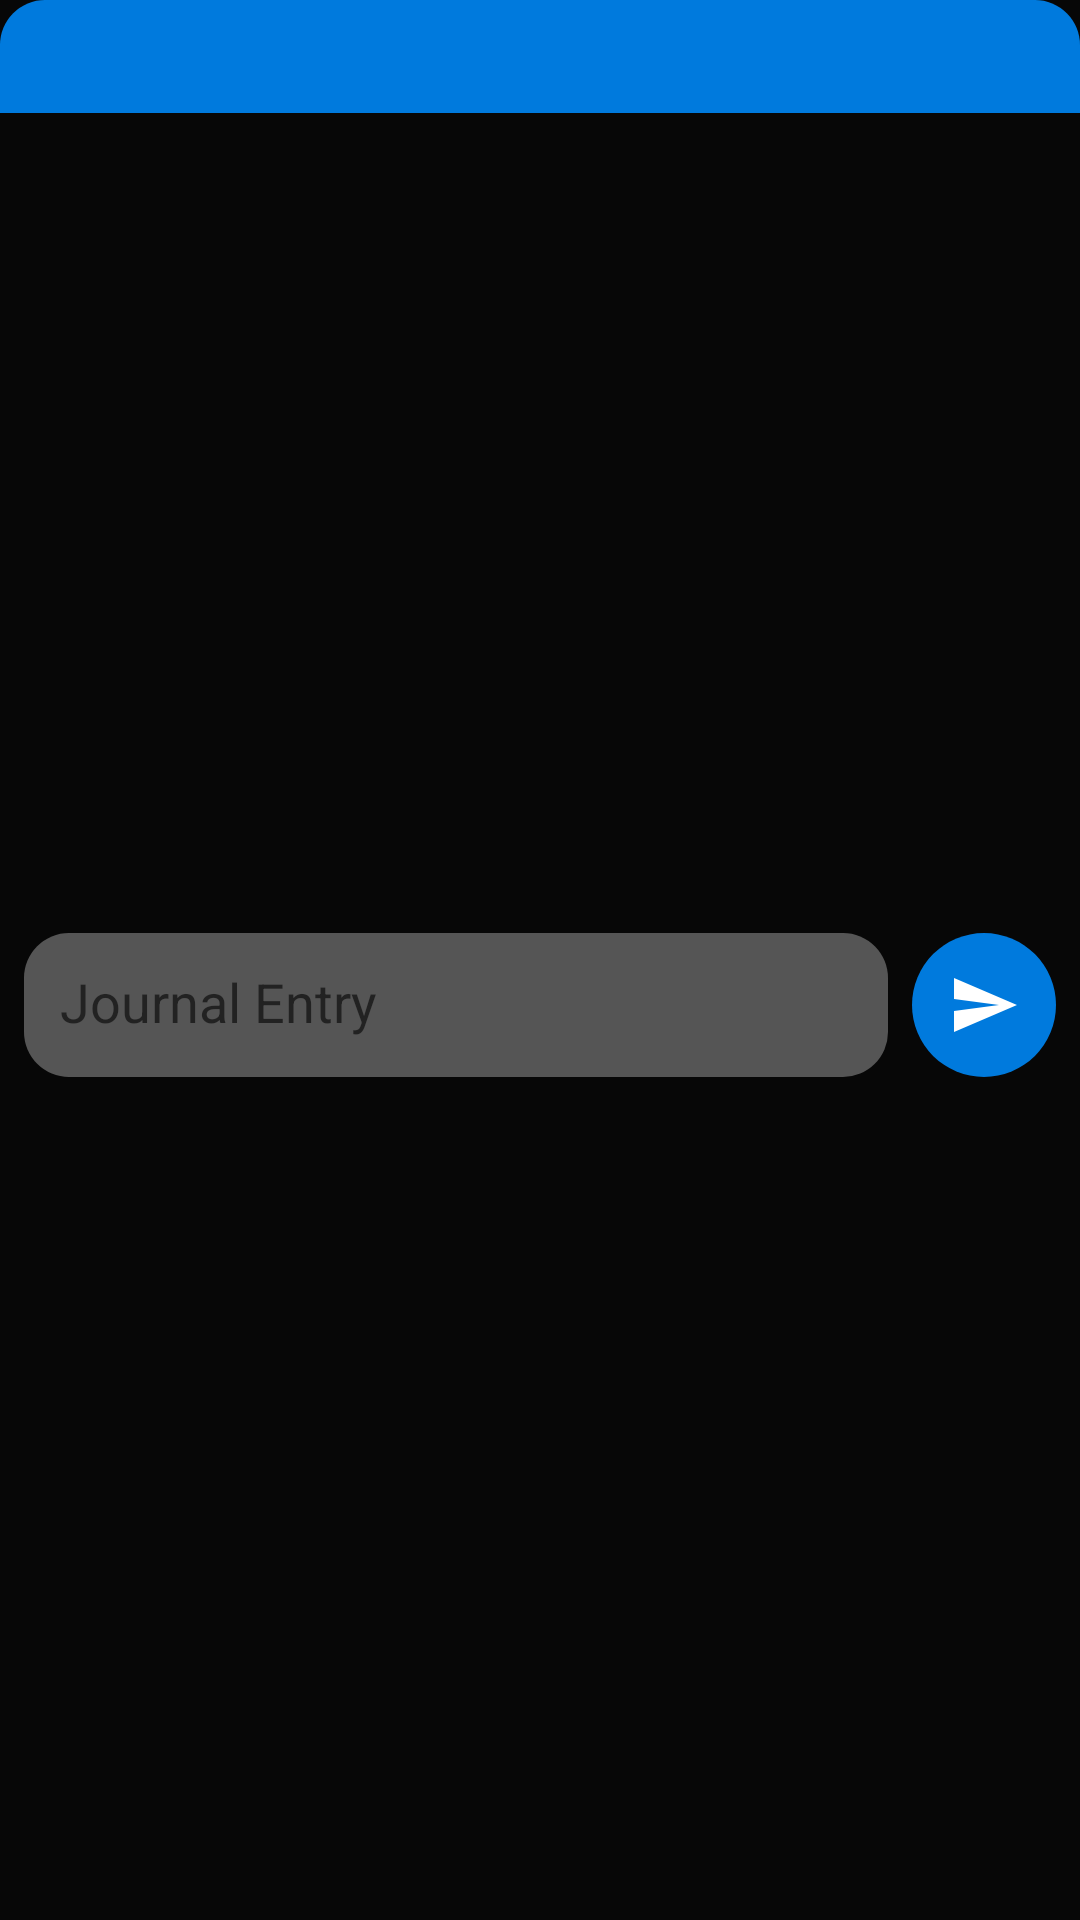

Where to tap for icons on this 1080×1920 app screen, as (x=x, y=y):
send: (x=984, y=1005)
